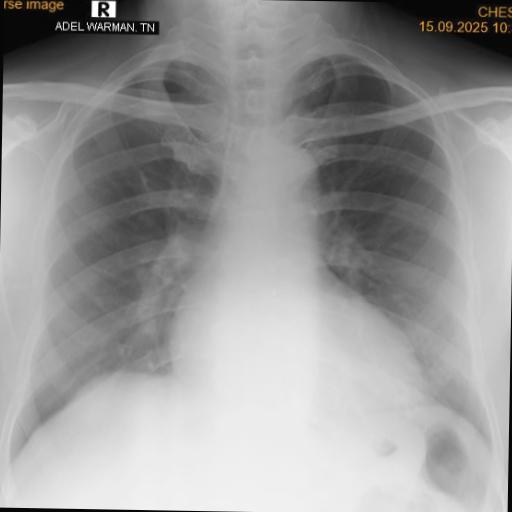kardiomegali: (4, 22, 510, 472)
